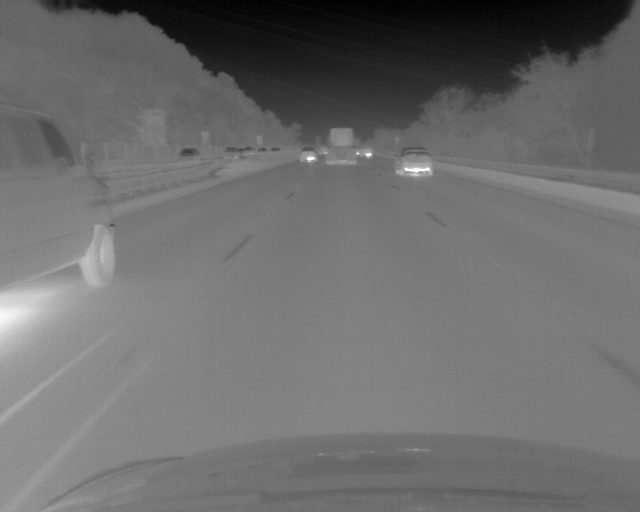car: (1, 101, 120, 297), (326, 128, 356, 165), (396, 147, 433, 177), (300, 146, 316, 162), (178, 148, 197, 159), (223, 147, 239, 159), (361, 143, 372, 158)
